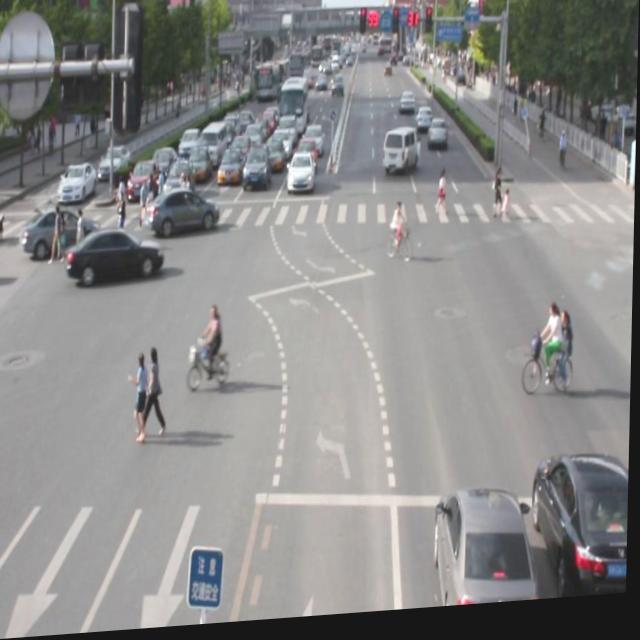car: (531, 461, 631, 608), (430, 496, 535, 614), (66, 226, 165, 287), (145, 187, 221, 239)
